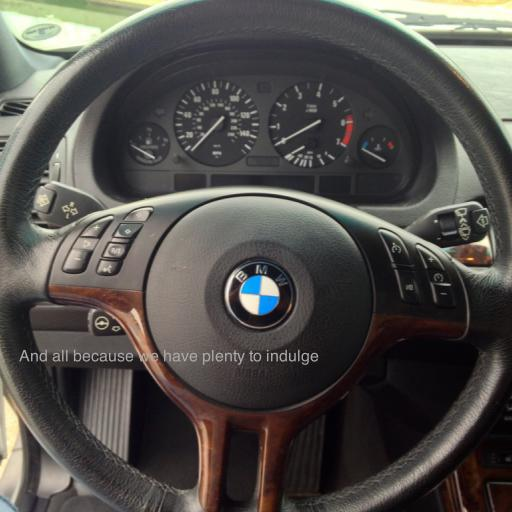Big Caslon: (19, 349, 319, 365)
